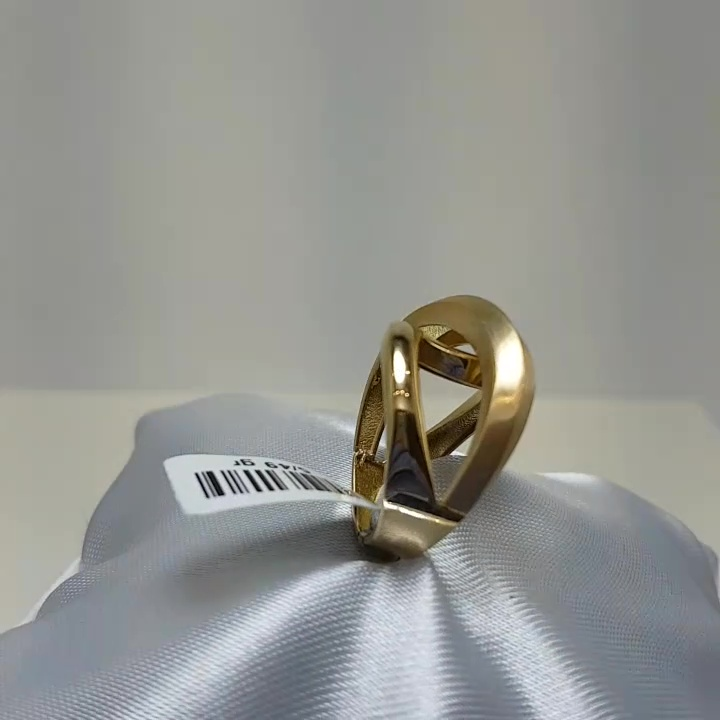Ring 3: (316, 275, 548, 582)
